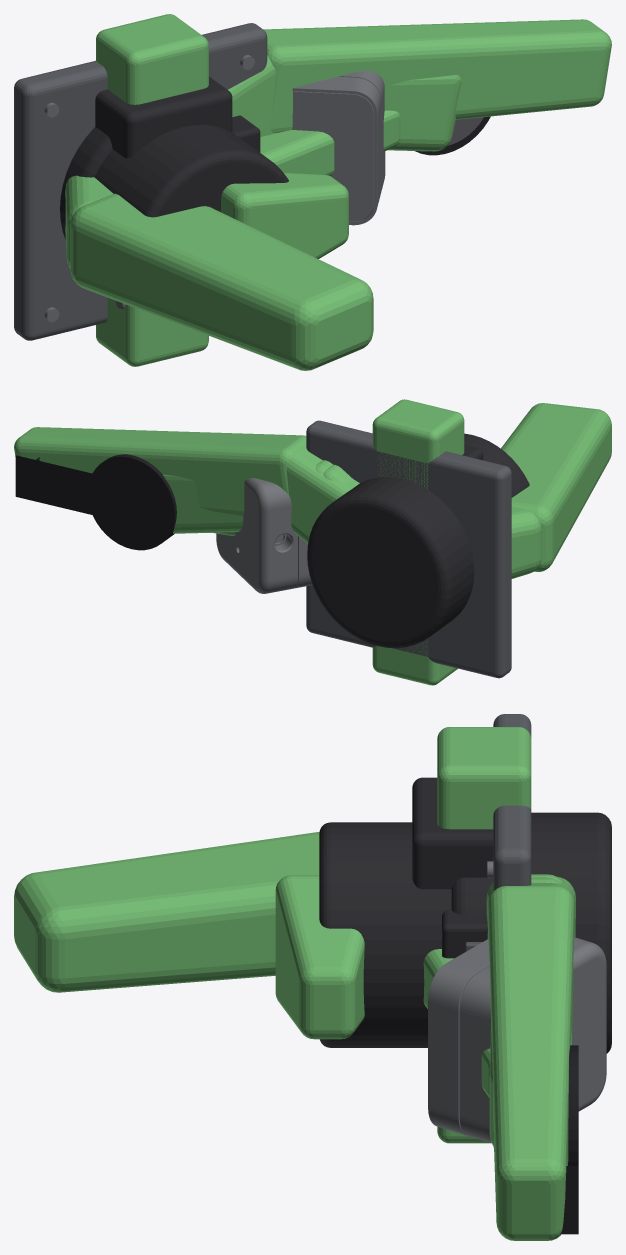
File: arm.glb
3 views of the same model, one above another, from view 1: azimuth 30°, elevation 25°; view 2: azimuth 150°, elevation 25°; view 3: azimuth 270°, elevation 25° (orthographic). The views are drawn at different scales.
Parts seen in each view (by area): view 1: b2, b1, b3, b10, b7, b8, b4; view 2: b3, b1, b10, b2, b8; view 3: b2, b3, b10, b1, b7, b8, b4.
Part boxes in pixels (x1,y1,x2,y2): b2: [65, 76, 373, 370]; b1: [14, 23, 288, 340]; b3: [60, 19, 611, 239]; b10: [96, 14, 385, 366]; b7: [221, 172, 348, 258]; b8: [385, 75, 490, 155]; b4: [260, 110, 400, 175]; b3: [14, 427, 474, 648]; b1: [306, 420, 529, 678]; b10: [216, 399, 464, 685]; b2: [462, 403, 611, 578]; b8: [15, 454, 352, 550]; b2: [14, 777, 493, 992]; b3: [451, 812, 611, 1240]; b10: [428, 727, 606, 1143]; b1: [319, 714, 531, 1147]; b7: [275, 875, 364, 1039]; b8: [489, 874, 578, 1234]; b4: [423, 949, 490, 1097].
Size of the model in its own units: 0.1936 by 0.0982 by 0.141.
